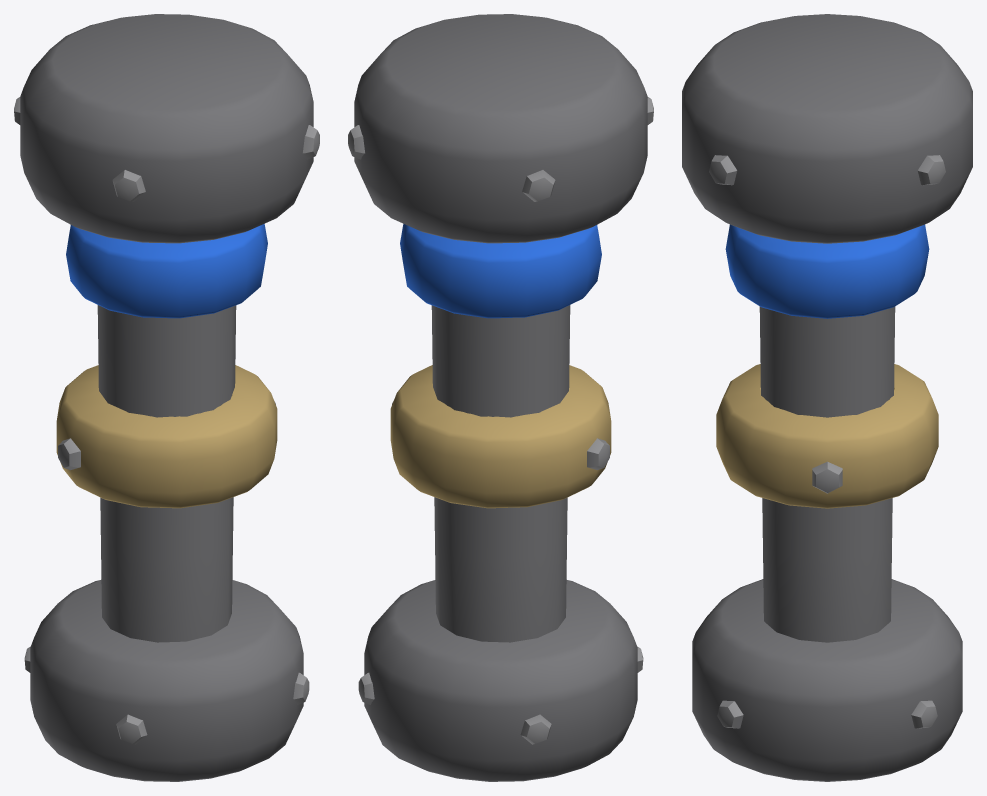
Rendered from Kit_Limb_Thin_S.glb.
3 views of the same model, side by side, from view 1: azimuth 30°, elevation 25°; view 2: azimuth 150°, elevation 25°; view 3: azimuth 270°, elevation 25° (orthographic).
Visible parts, largest first — view 1: Kit_Limb_Thin_S; view 2: Kit_Limb_Thin_S; view 3: Kit_Limb_Thin_S.
Boxes of the visible parts, bbox=[...] form: Kit_Limb_Thin_S: bbox=[14, 14, 319, 781]; Kit_Limb_Thin_S: bbox=[348, 14, 653, 781]; Kit_Limb_Thin_S: bbox=[682, 14, 972, 781].
Size of the model in its own units: 0.0998 by 0.2512 by 0.0987.
